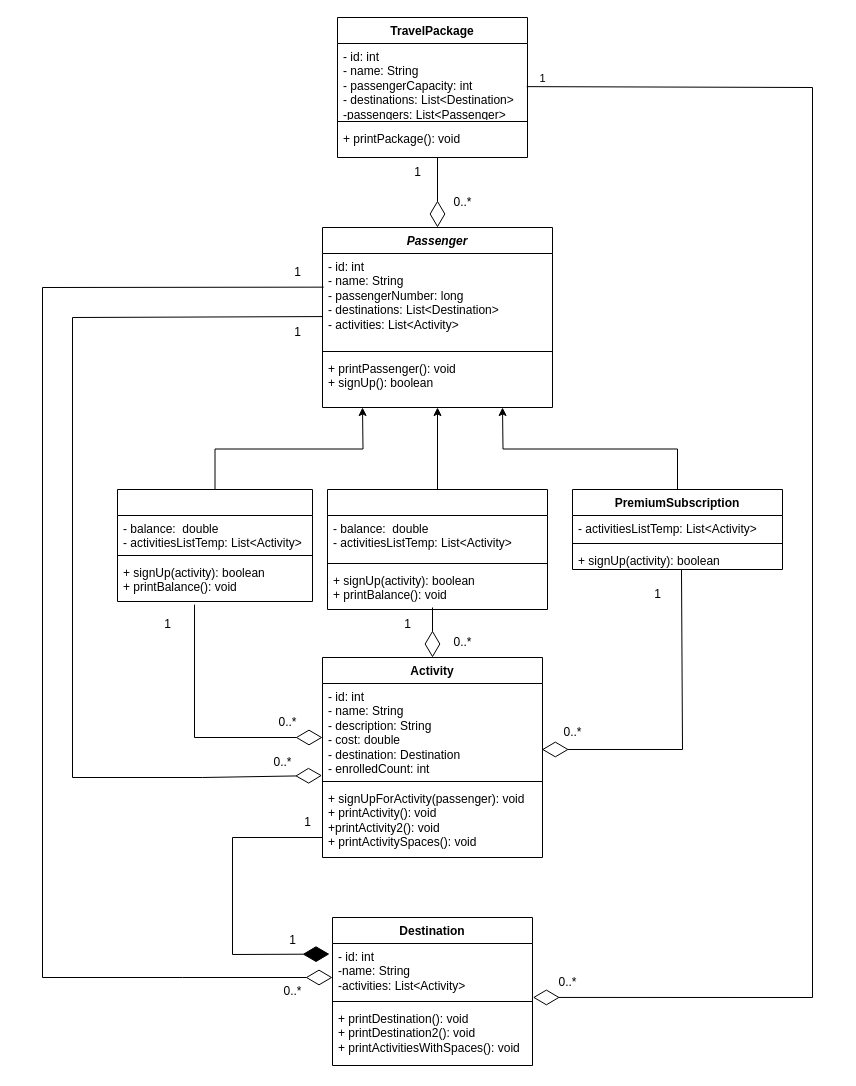
This 856x1086 diagram has some shape labels left out. Each missing label, with the box of its shape:
GoldSubscription: (326, 488, 548, 610)
StandardSubscription: (116, 488, 312, 602)
